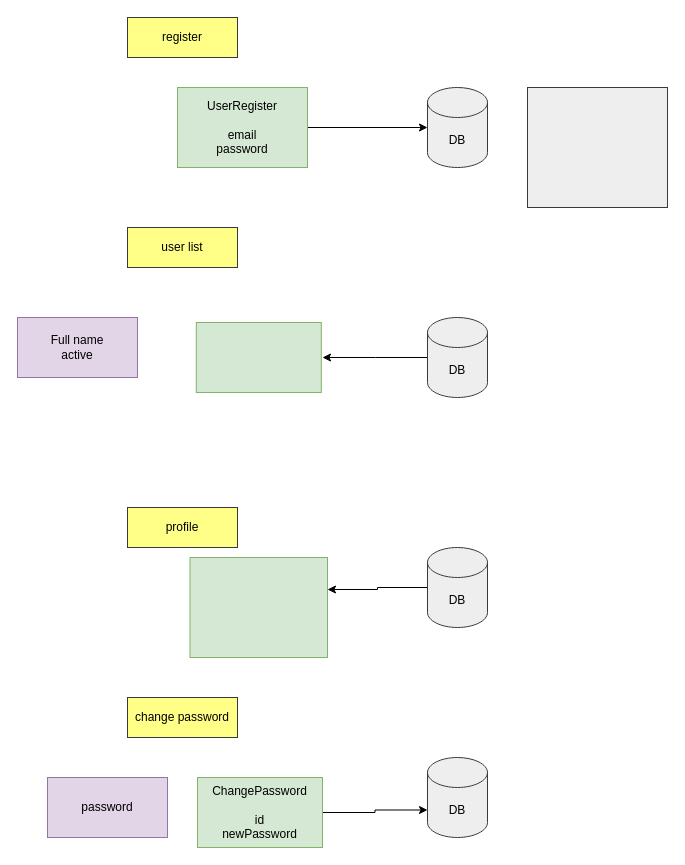
The diagram is 685 pixels wide and 865 high, and some of its shapes have lost their labels. The shapes that lost their labels are listed below. From the top down, each one's centre as x and y in pixels, then its label:
At point (597, 147): "User id first name last name email password".
At point (258, 357): "UserListInfo id name".
At point (258, 607): "UserProfile id name email".
